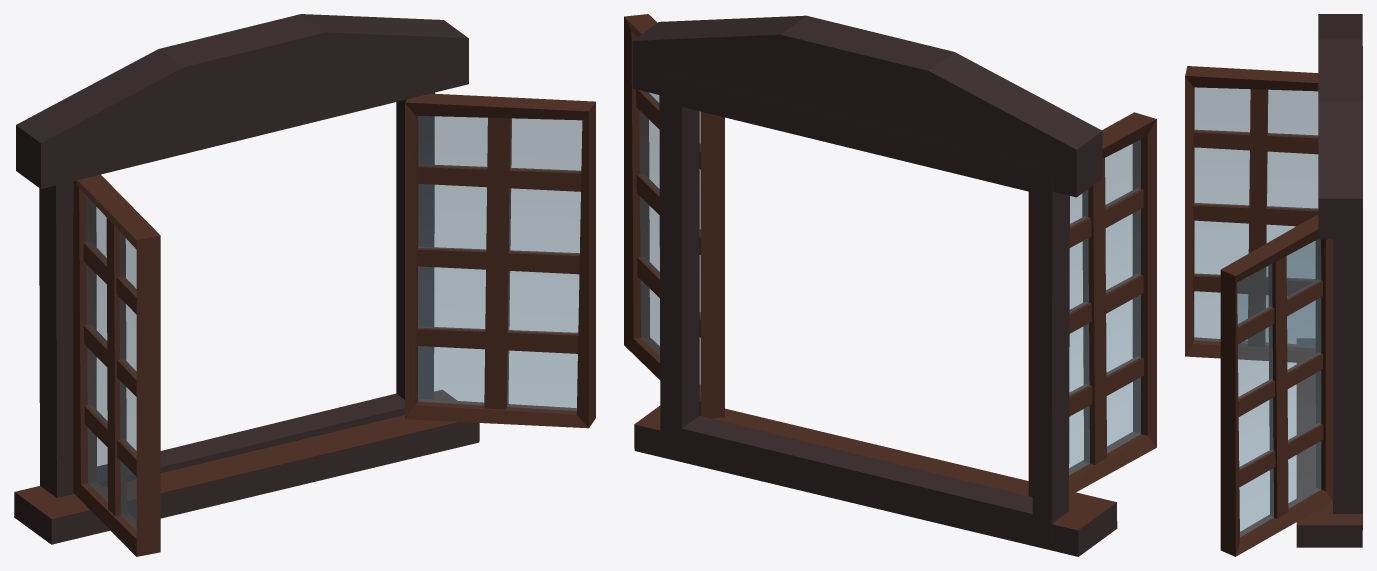
The model's file is Window 4x4 V3 Open.glb.
The picture shows the model from 3 angles, left to right: view 1: azimuth 30°, elevation 25°; view 2: azimuth 150°, elevation 25°; view 3: azimuth 270°, elevation 25°; orthographic projection. The views are drawn at different scales.
Visible parts, largest first — view 1: Window 4x4 V3 Open; view 2: Window 4x4 V3 Open; view 3: Window 4x4 V3 Open.
Part boxes in pixels (left/top/right/bottom): Window 4x4 V3 Open: left=14, top=14, right=595, bottom=556; Window 4x4 V3 Open: left=624, top=14, right=1156, bottom=556; Window 4x4 V3 Open: left=1185, top=14, right=1362, bottom=556.
Bounding box in the file's own units: 2.79 × 2.28 × 0.9506.
2 materials, 2 textured.
